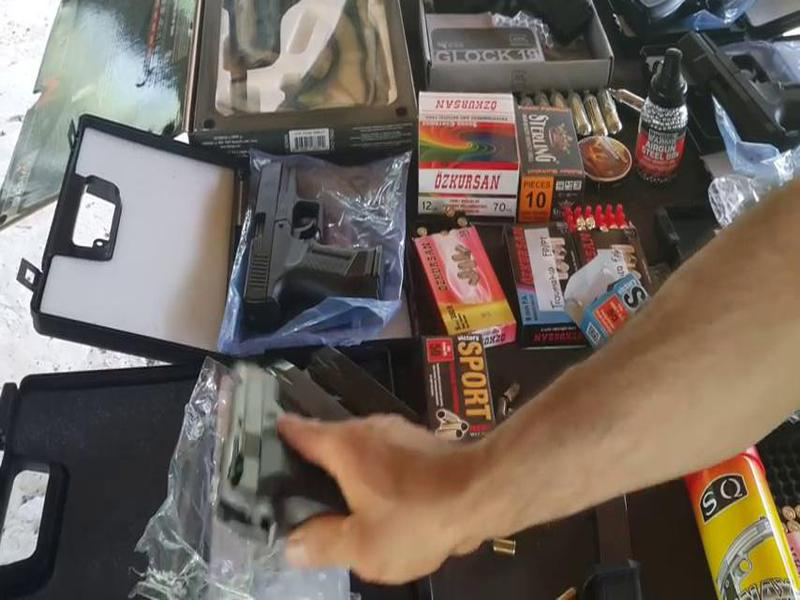Pistola: (247, 146, 394, 354)
